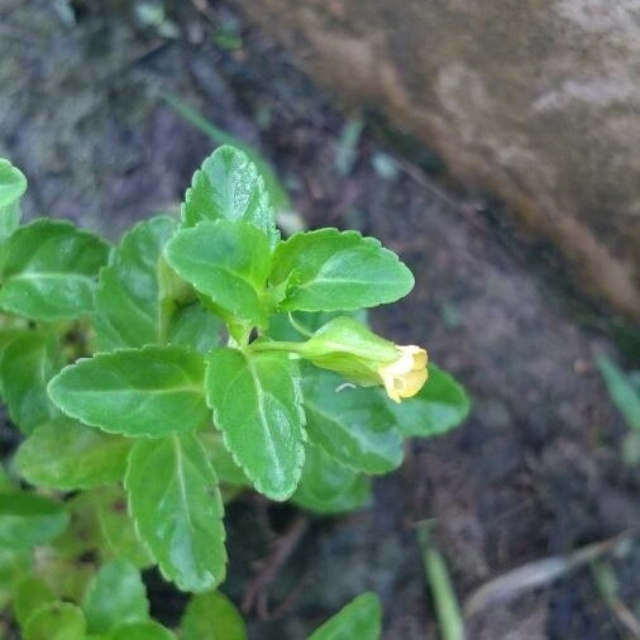obstacle: (11, 169, 463, 565)
